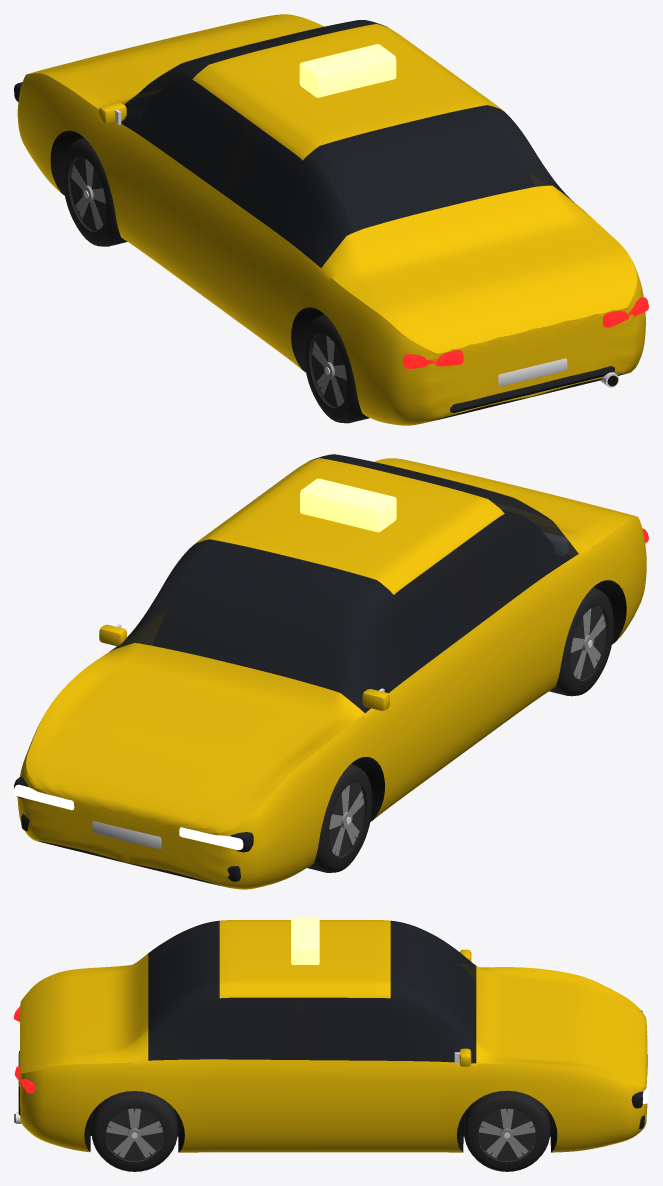
File: traffic_taxi.glb
The picture shows the model from 3 angles, top to bottom: view 1: azimuth 30°, elevation 25°; view 2: azimuth 150°, elevation 25°; view 3: azimuth 270°, elevation 25°; orthographic projection. The views are drawn at different scales.
Parts seen in each view (by area): view 1: Body, Wheel_FL, Wheel_RL; view 2: Body, Wheel_FL, Wheel_RL; view 3: Body, Wheel_FR, Wheel_RR.
Boxes of the visible parts, <box> form: Body: <box>14,14,648,425</box>; Wheel_FL: <box>62,137,127,246</box>; Wheel_RL: <box>304,314,369,423</box>; Body: <box>14,454,648,889</box>; Wheel_FL: <box>307,763,372,872</box>; Wheel_RL: <box>549,587,613,696</box>; Body: <box>14,918,648,1152</box>; Wheel_FR: <box>464,1090,550,1171</box>; Wheel_RR: <box>91,1091,177,1171</box>.
Bounding box in the file's own units: 1.95 × 1.63 × 4.86.
